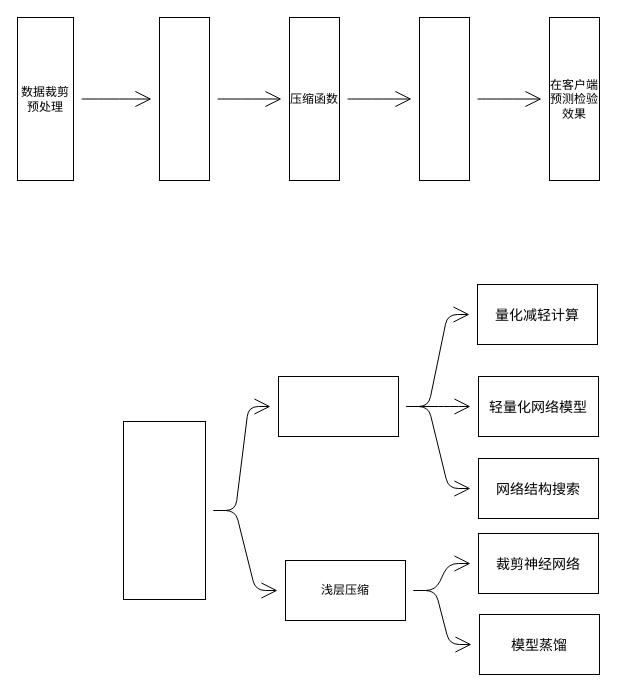
This 617x692 diagram has some shape labels left out. Here are the shapes that lost their labels. From the top down, the box of each, then its label:
(158, 16, 210, 180): 定义模型
(418, 16, 470, 180): 导出客户端模型
(278, 376, 398, 436): 深层压缩
(122, 420, 206, 600): 模型精简
